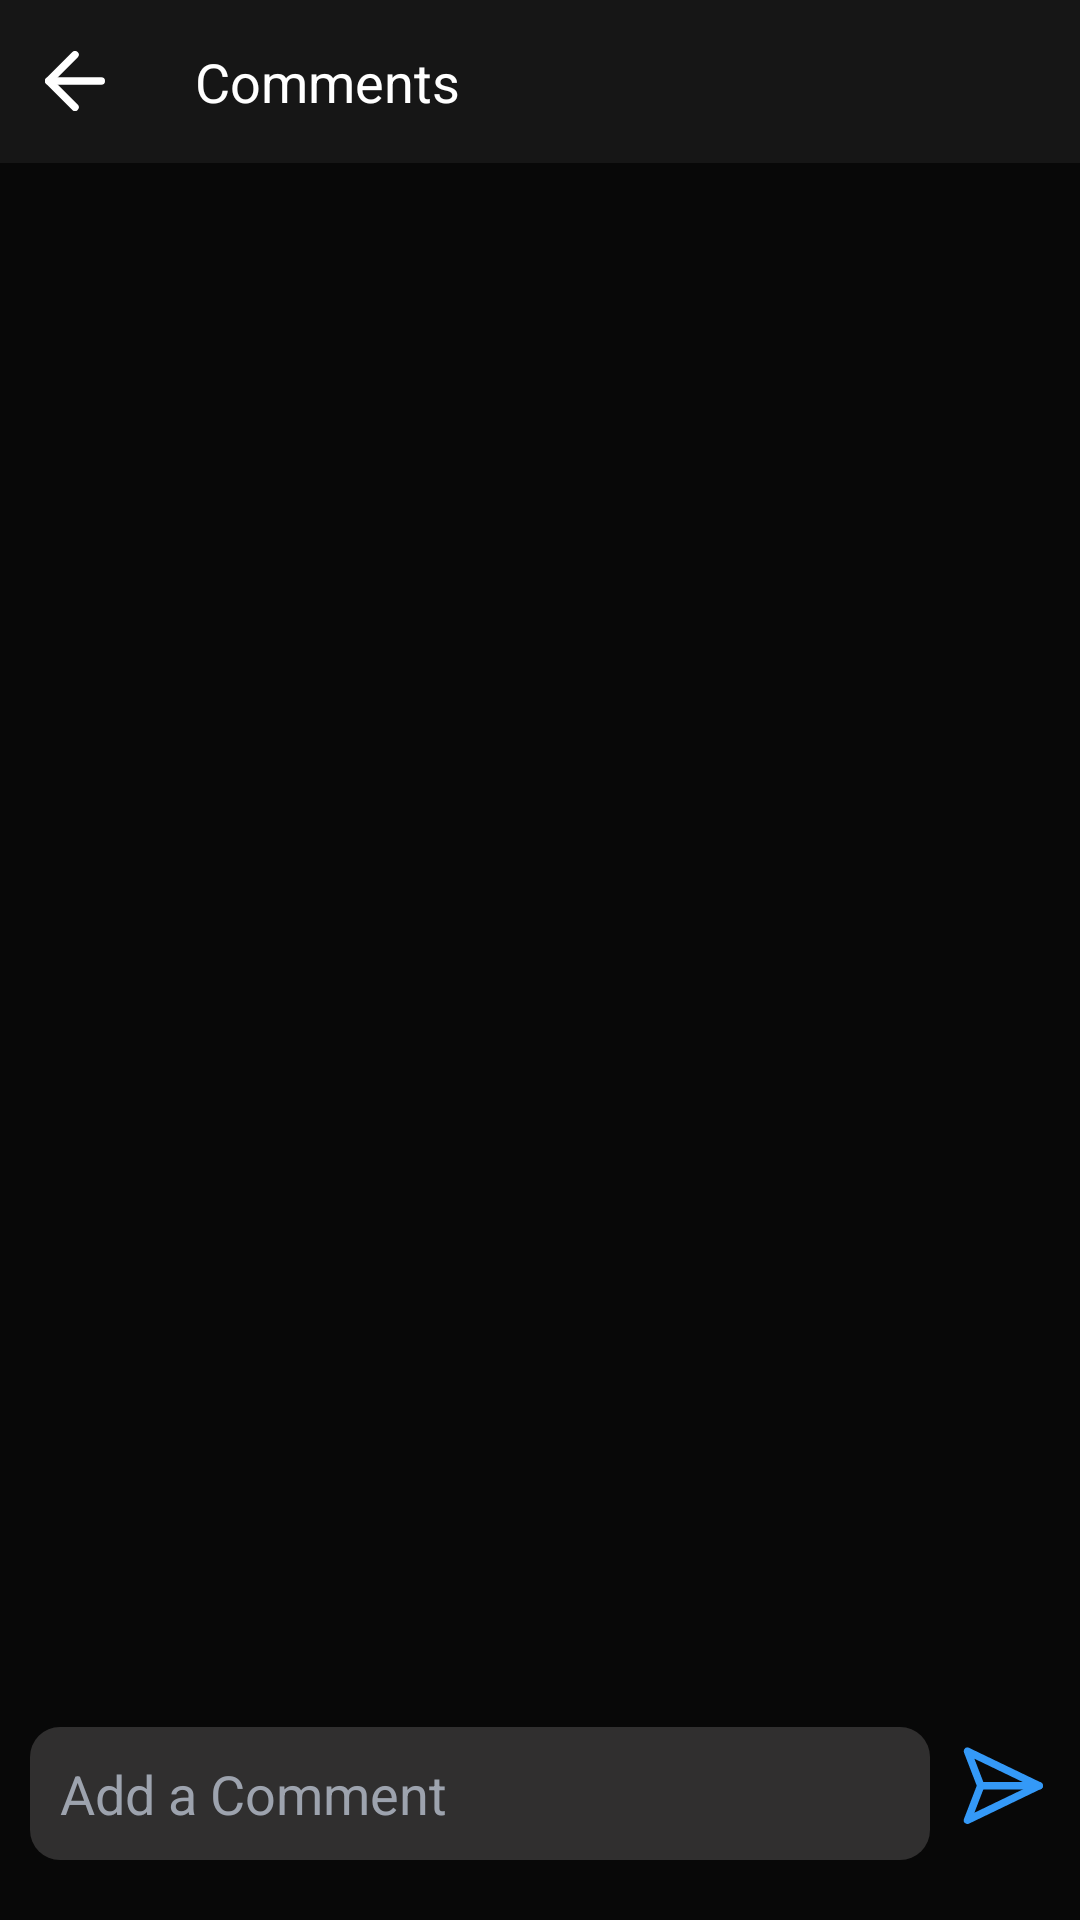

Named icons in this screenshot (1080w x 1920h) and their bounding boxes, (x1, y1, x2, y2):
back: (45, 51, 105, 111)
send: (963, 1747, 1043, 1824)
